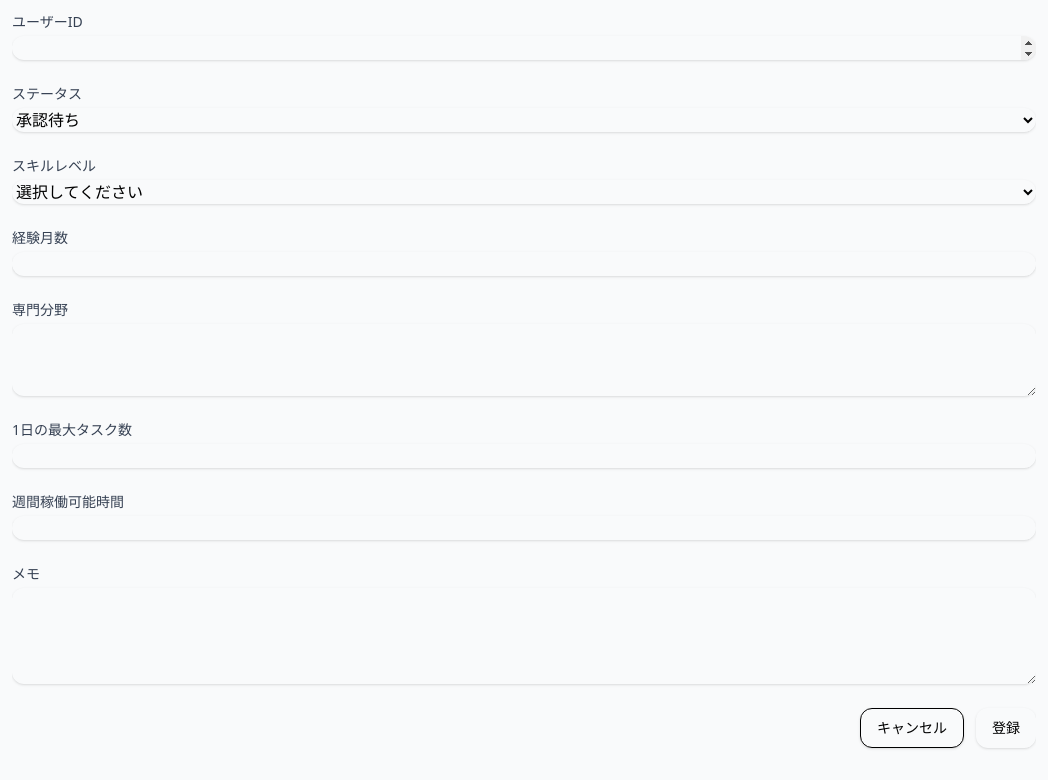
Test case: WorkerForm › バリデーション › ユーザーIDが数値でない場合、エラーが表示される
The image size is (1048, 780).
Type "abc" into the number field labelled "ユーザーID" at {"x": 524, "y": 48}, box [12,36,1036,60]
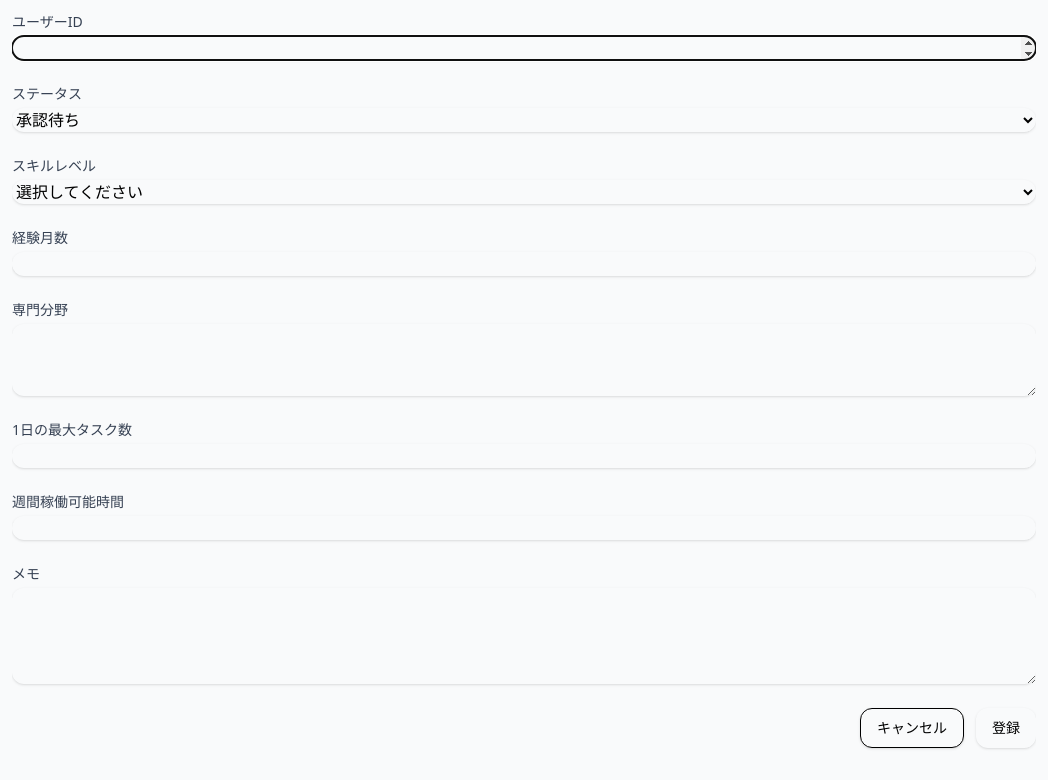
Click the button "登録" at {"x": 1006, "y": 728}, box [976,708,1036,748]
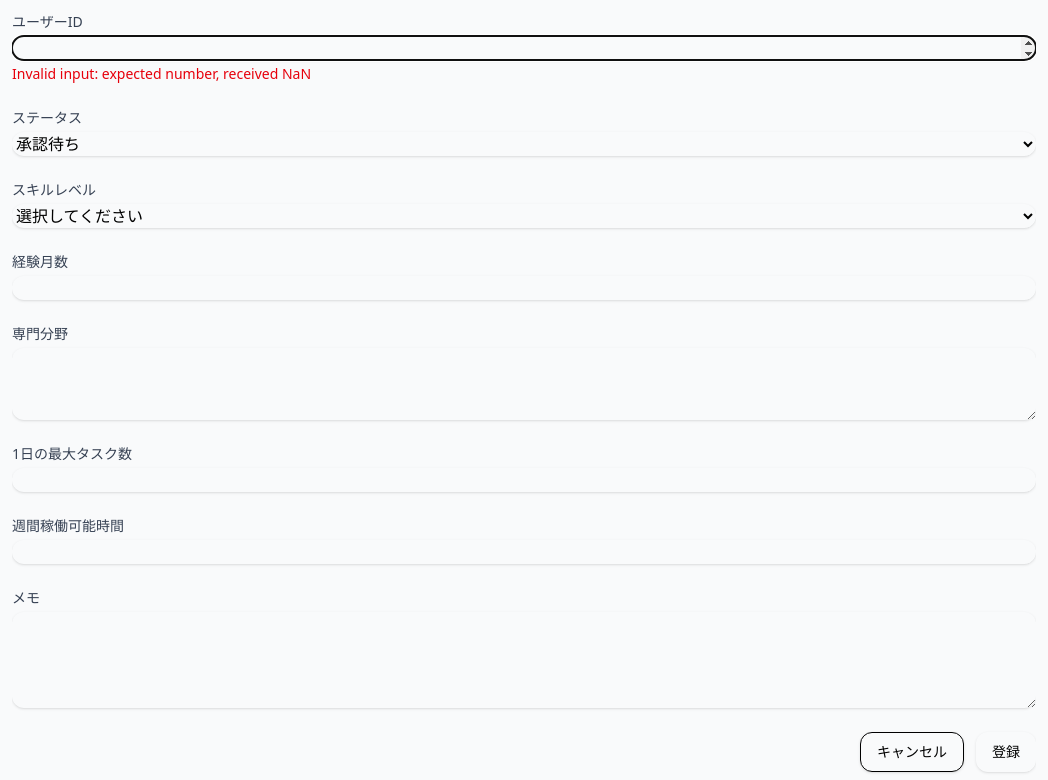
Expected: the text "Invalid input" is shown, [12,64,311,83]
